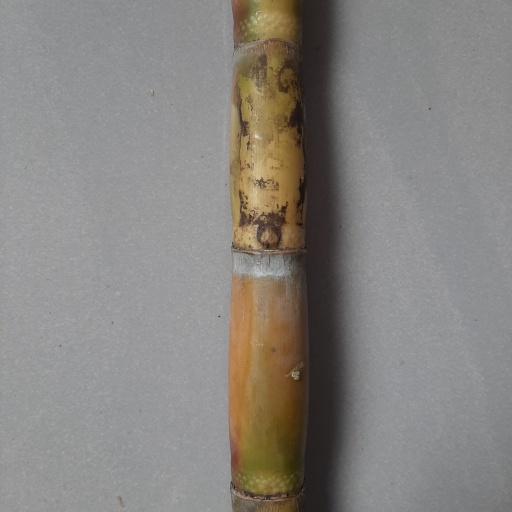Bud: (257, 228, 281, 249)
